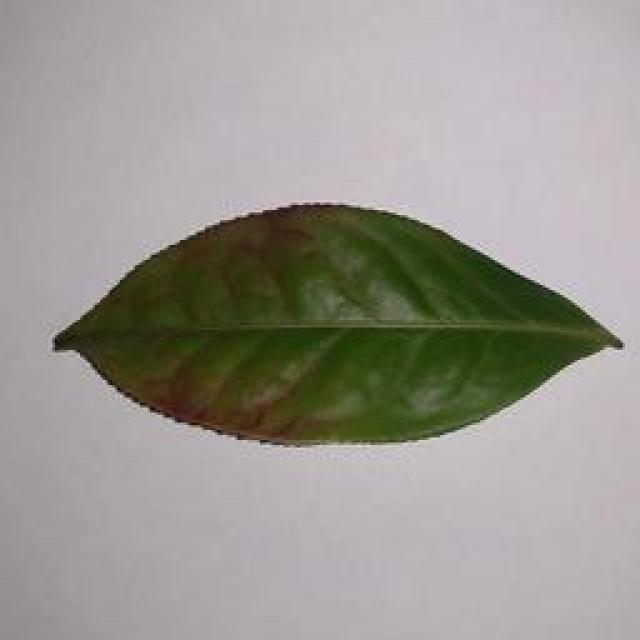Red Leaf Spot: (56, 196, 634, 454)
